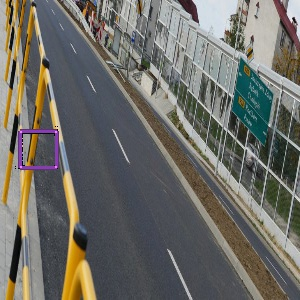square: (17, 127, 60, 171)
